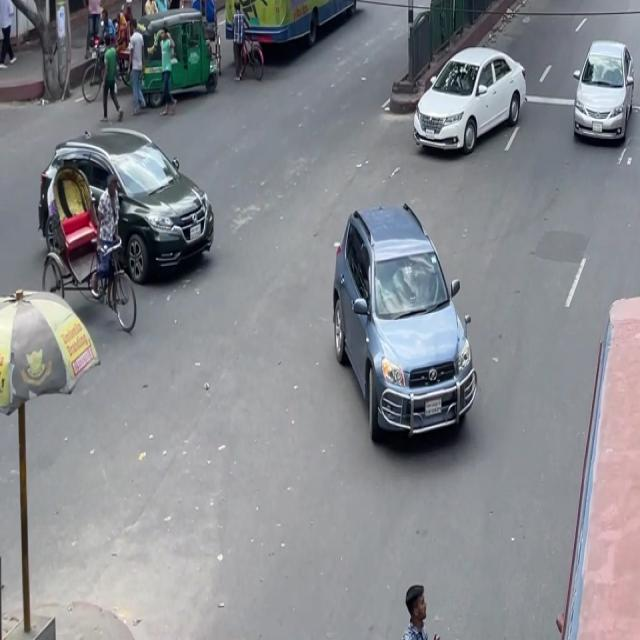car: (324, 189, 487, 466), (31, 108, 220, 299), (411, 36, 528, 170), (570, 30, 638, 156)
rickshaw: (134, 0, 224, 115)
